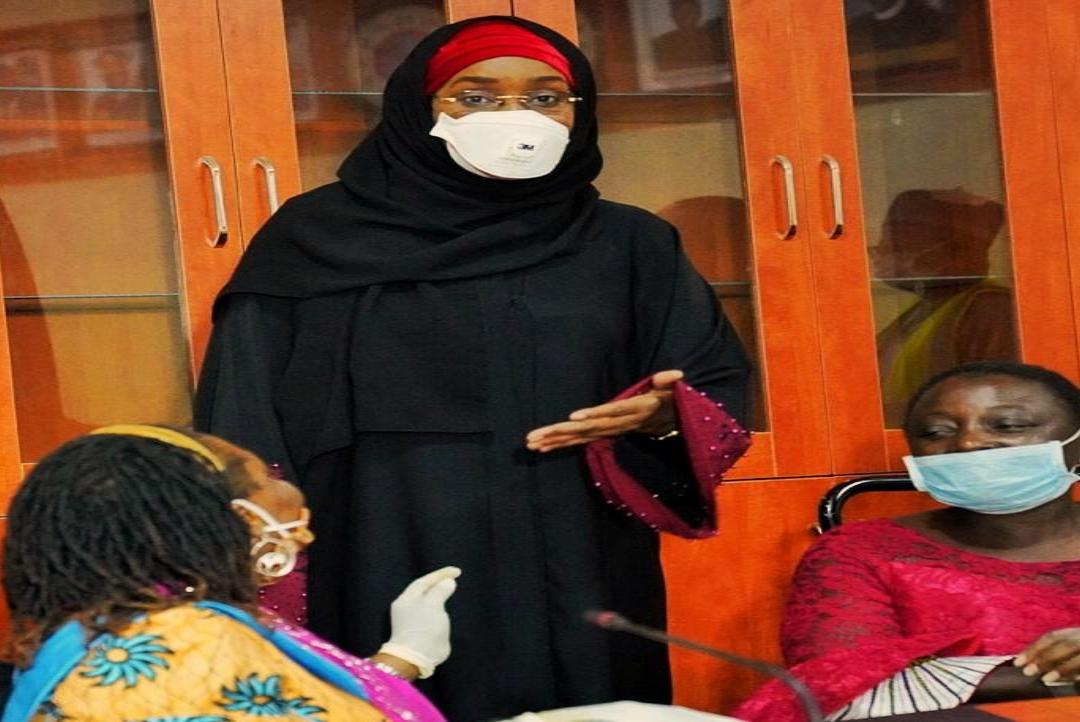mask_weared_incorrect: (900, 364, 1080, 517)
